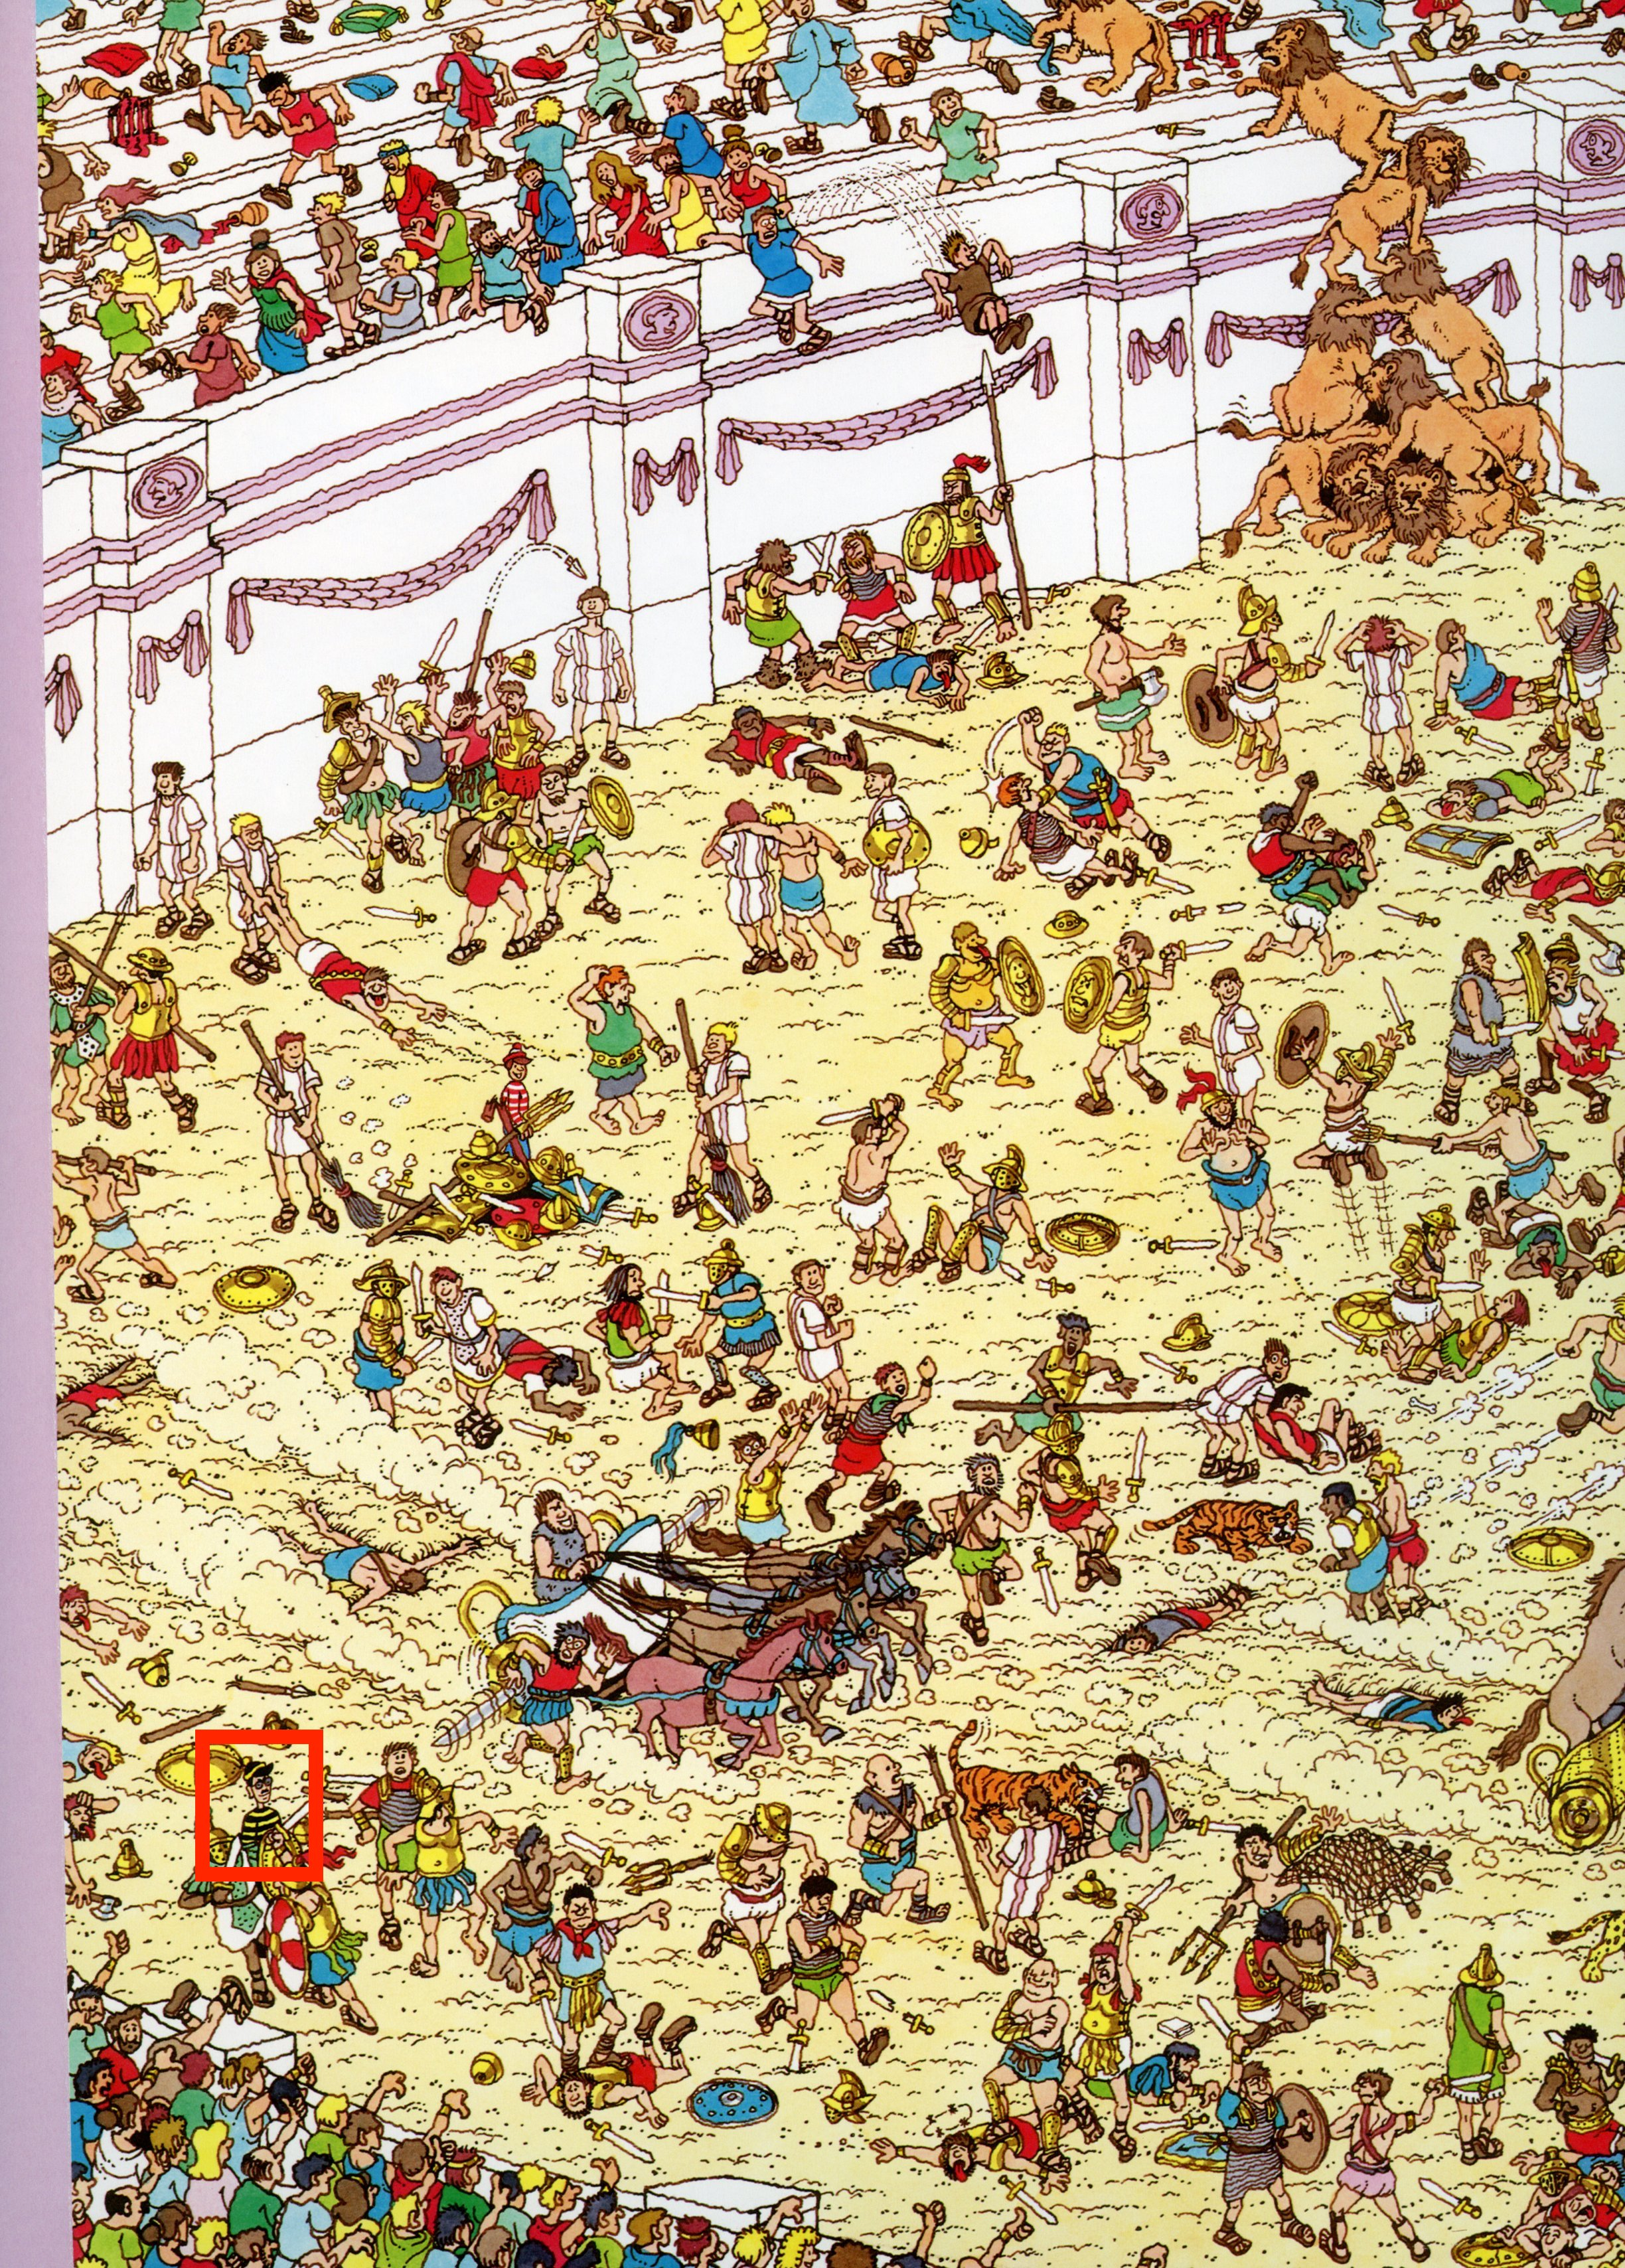odlaw: (199, 1730, 313, 1871)
